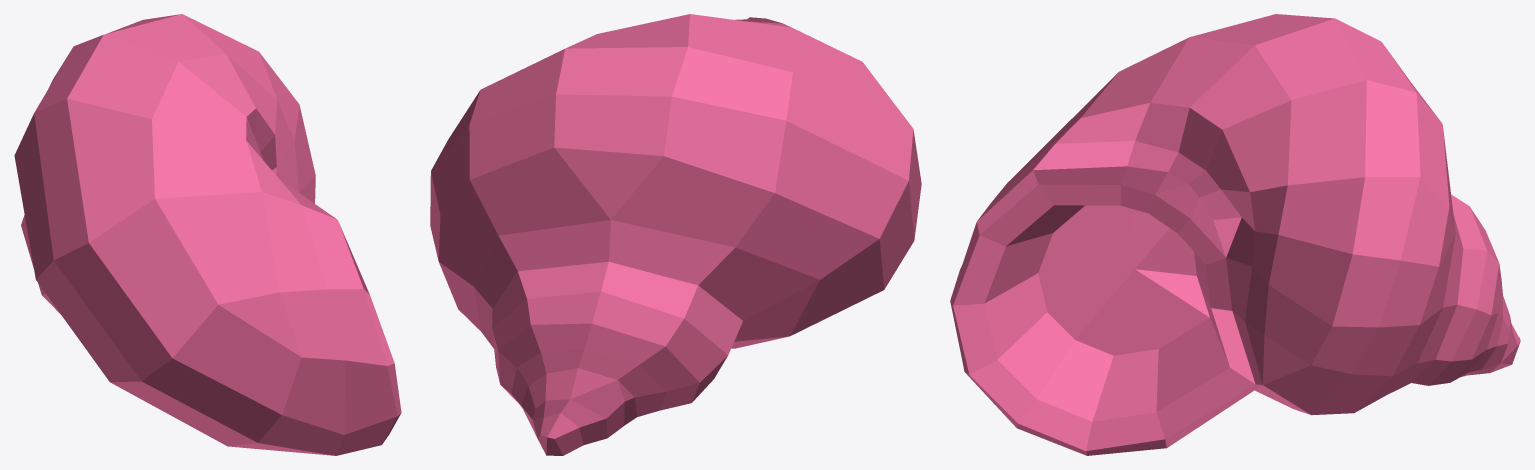
The model's file is Coral_03.fbx.
3 renders of one model, left to right at view 1: azimuth 30°, elevation 25°; view 2: azimuth 150°, elevation 25°; view 3: azimuth 270°, elevation 25°, orthographic. The views are drawn at different scales.
Parts seen in each view (by area): view 1: Coral_03; view 2: Coral_03; view 3: Coral_03.
Part boxes in pixels (<box>): Coral_03: <box>14,14,401,455</box>; Coral_03: <box>430,14,921,455</box>; Coral_03: <box>950,14,1520,455</box>.
Bounding box in the file's own units: 30.54 × 30.65 × 43.2.
